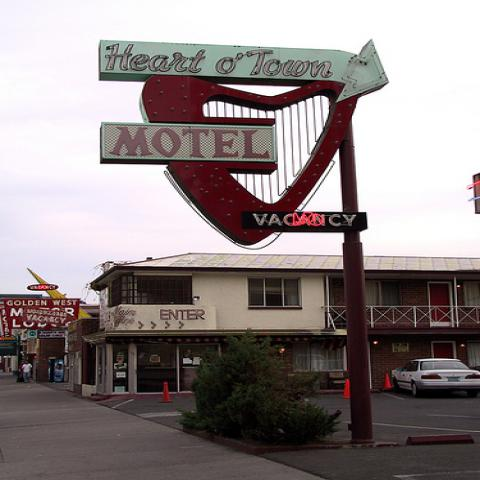car: (388, 356, 479, 400), (311, 372, 349, 394)
